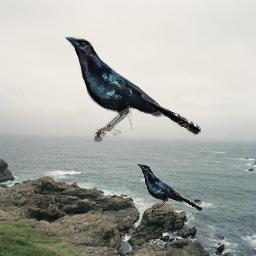Crow: (65, 37, 201, 142), (137, 164, 202, 215)
